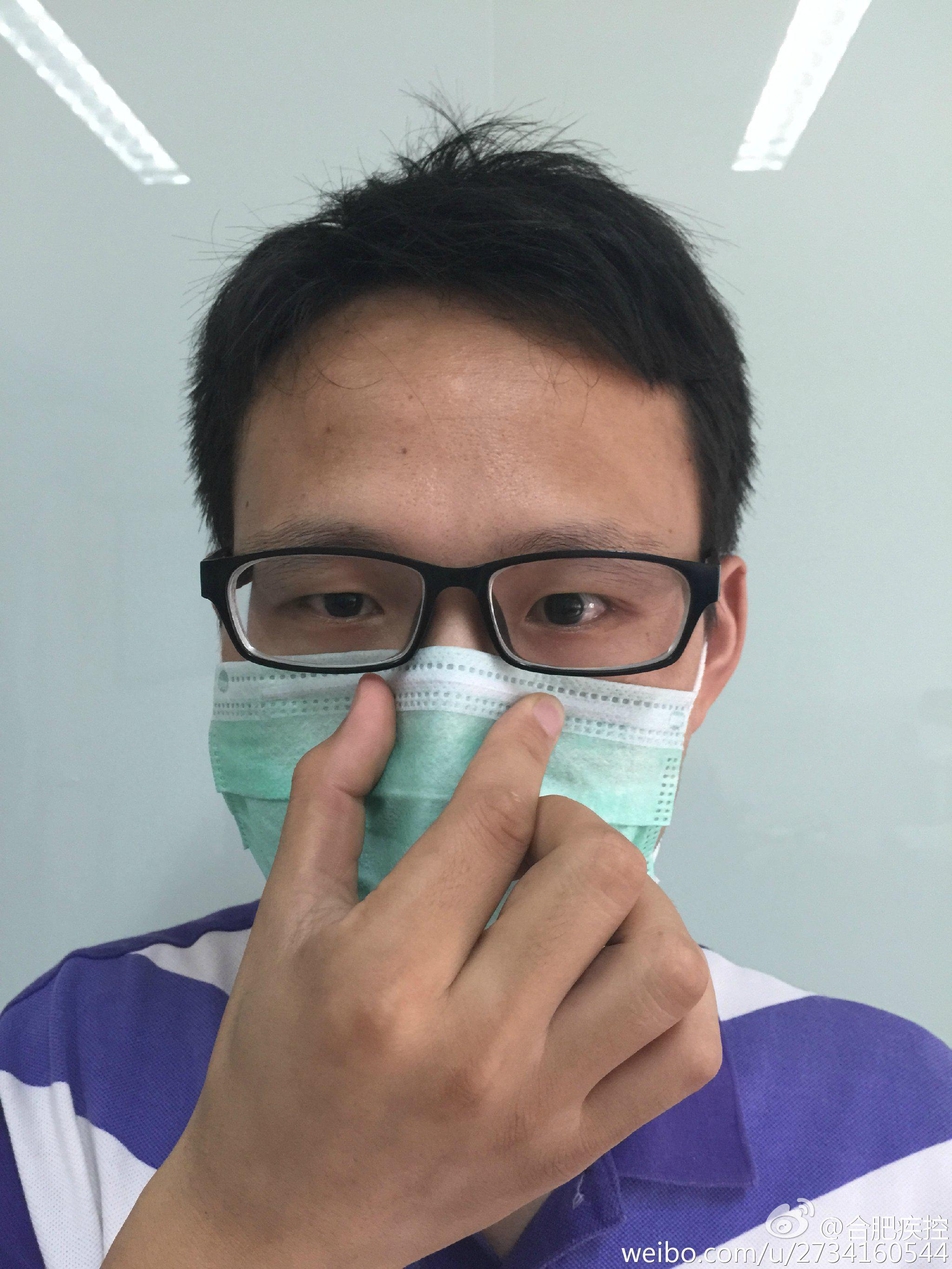OK: (211, 478, 699, 978)
